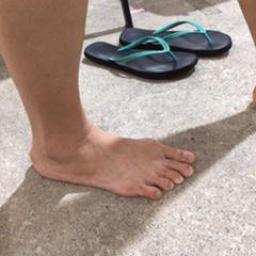Lateral View -Right Foot-: (24, 98, 200, 208)
